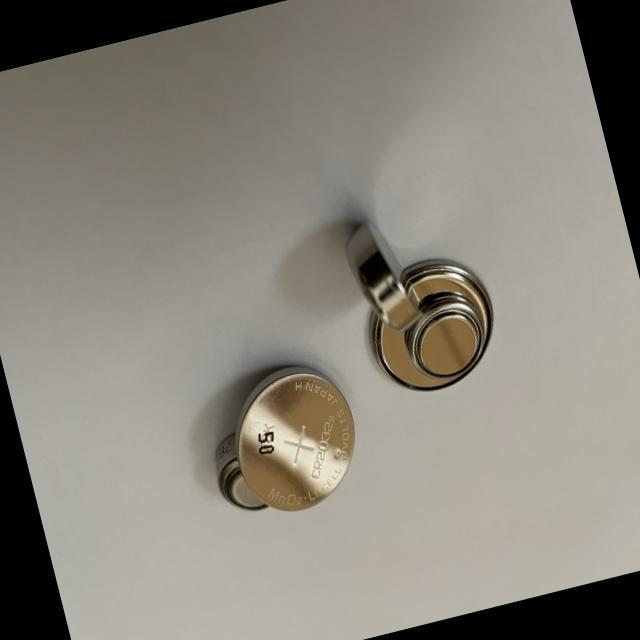COIN: (216, 348, 371, 523), (351, 245, 510, 406), (330, 208, 426, 336), (394, 283, 491, 387), (200, 424, 284, 520)
